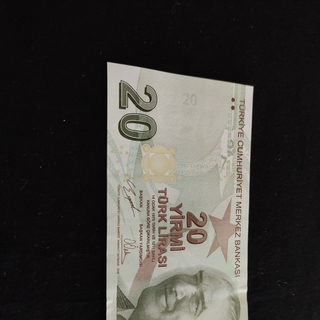20TLFront: (94, 60, 253, 320)
